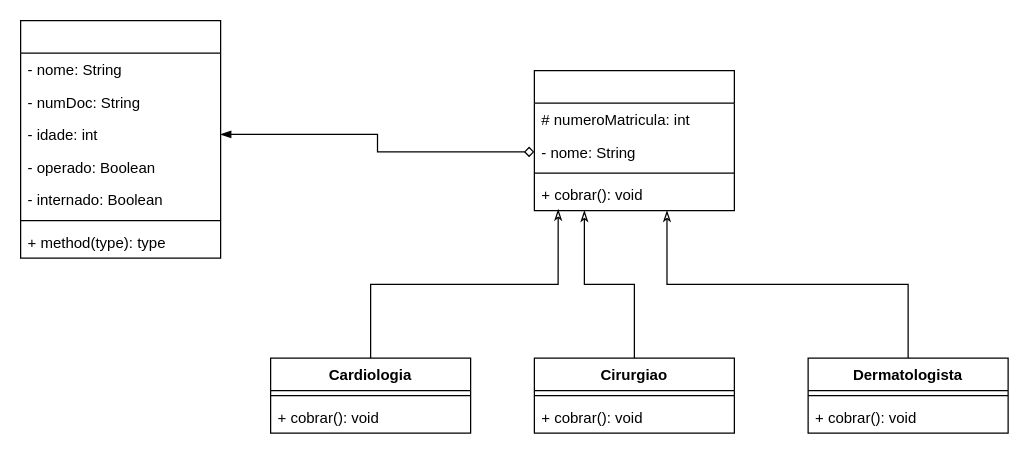
Some shapes in this 1029 by 454 pixel diagram are drawn without their labels. Each missing label, with the box of its shape:
MedicoGeral: (533, 69, 734, 211)
Paciente: (19, 19, 221, 258)
